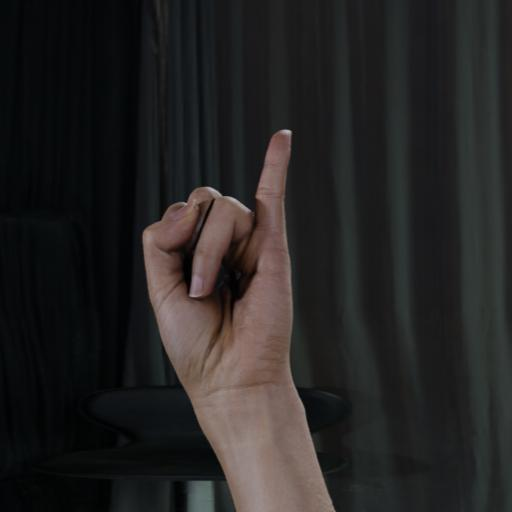I: (138, 126, 301, 386)
